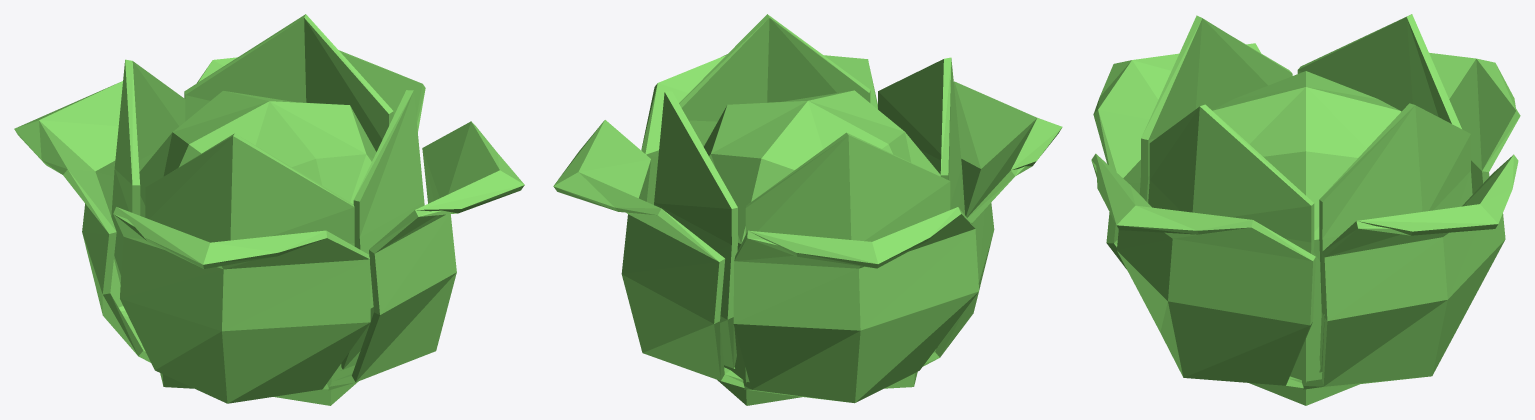
Rendered from Lettuce_Whole.obj.
The picture shows the model from 3 angles, left to right: view 1: azimuth 30°, elevation 25°; view 2: azimuth 150°, elevation 25°; view 3: azimuth 270°, elevation 25°; orthographic projection. The views are drawn at different scales.
Parts seen in each view (by area): view 1: Lettuce_Whole; view 2: Lettuce_Whole; view 3: Lettuce_Whole.
Boxes of the visible parts, bbox=[...] form: Lettuce_Whole: bbox=[14, 14, 524, 405]; Lettuce_Whole: bbox=[553, 14, 1062, 405]; Lettuce_Whole: bbox=[1091, 14, 1520, 405].
Bounding box in the file's own units: 1.66 × 1.37 × 1.66.
